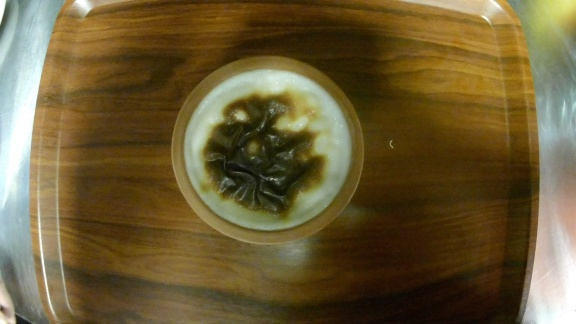sutlac: (175, 56, 365, 242)
